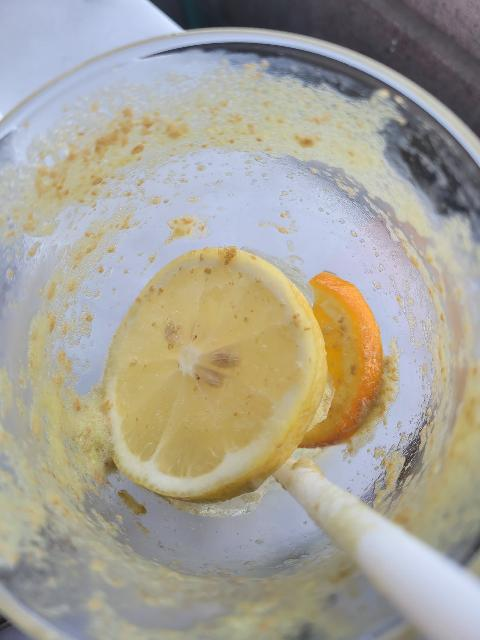Organik: (101, 231, 387, 534), (123, 241, 314, 479)
